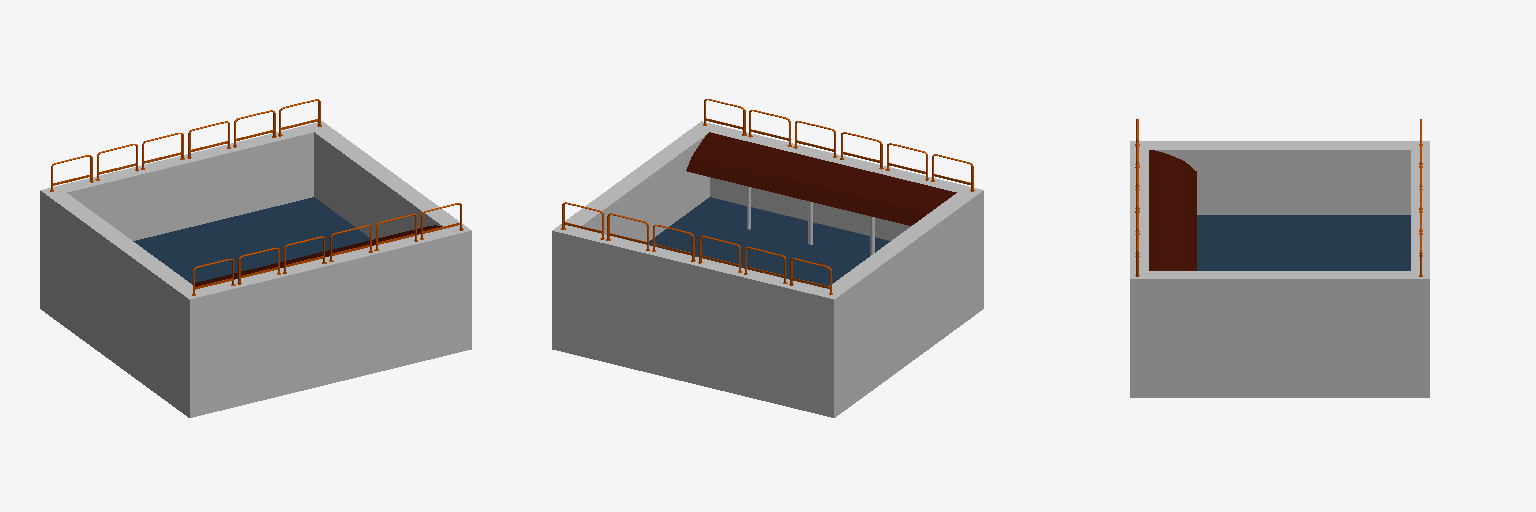
File: wavetank.obj
The picture shows the model from 3 angles: view 1: azimuth 30°, elevation 25°; view 2: azimuth 150°, elevation 25°; view 3: azimuth 270°, elevation 25°; orthographic projection.
Parts seen in each view (by area): view 1: Cube, Cube.002, Plane; view 2: Cube, Plane, Cube.002; view 3: Cube, Cube.002, Plane.
Boxes of the visible parts, <box> form: Cube: <box>40,121,471,417</box>; Cube.002: <box>133,197,369,283</box>; Plane: <box>192,225,441,286</box>; Cube: <box>552,121,983,417</box>; Plane: <box>686,132,956,225</box>; Cube.002: <box>649,197,890,287</box>; Cube: <box>1130,141,1429,397</box>; Cube.002: <box>1197,215,1410,270</box>; Plane: <box>1149,150,1196,270</box>.
Bounding box in the file's own units: 13.7 × 6.78 × 12.56.